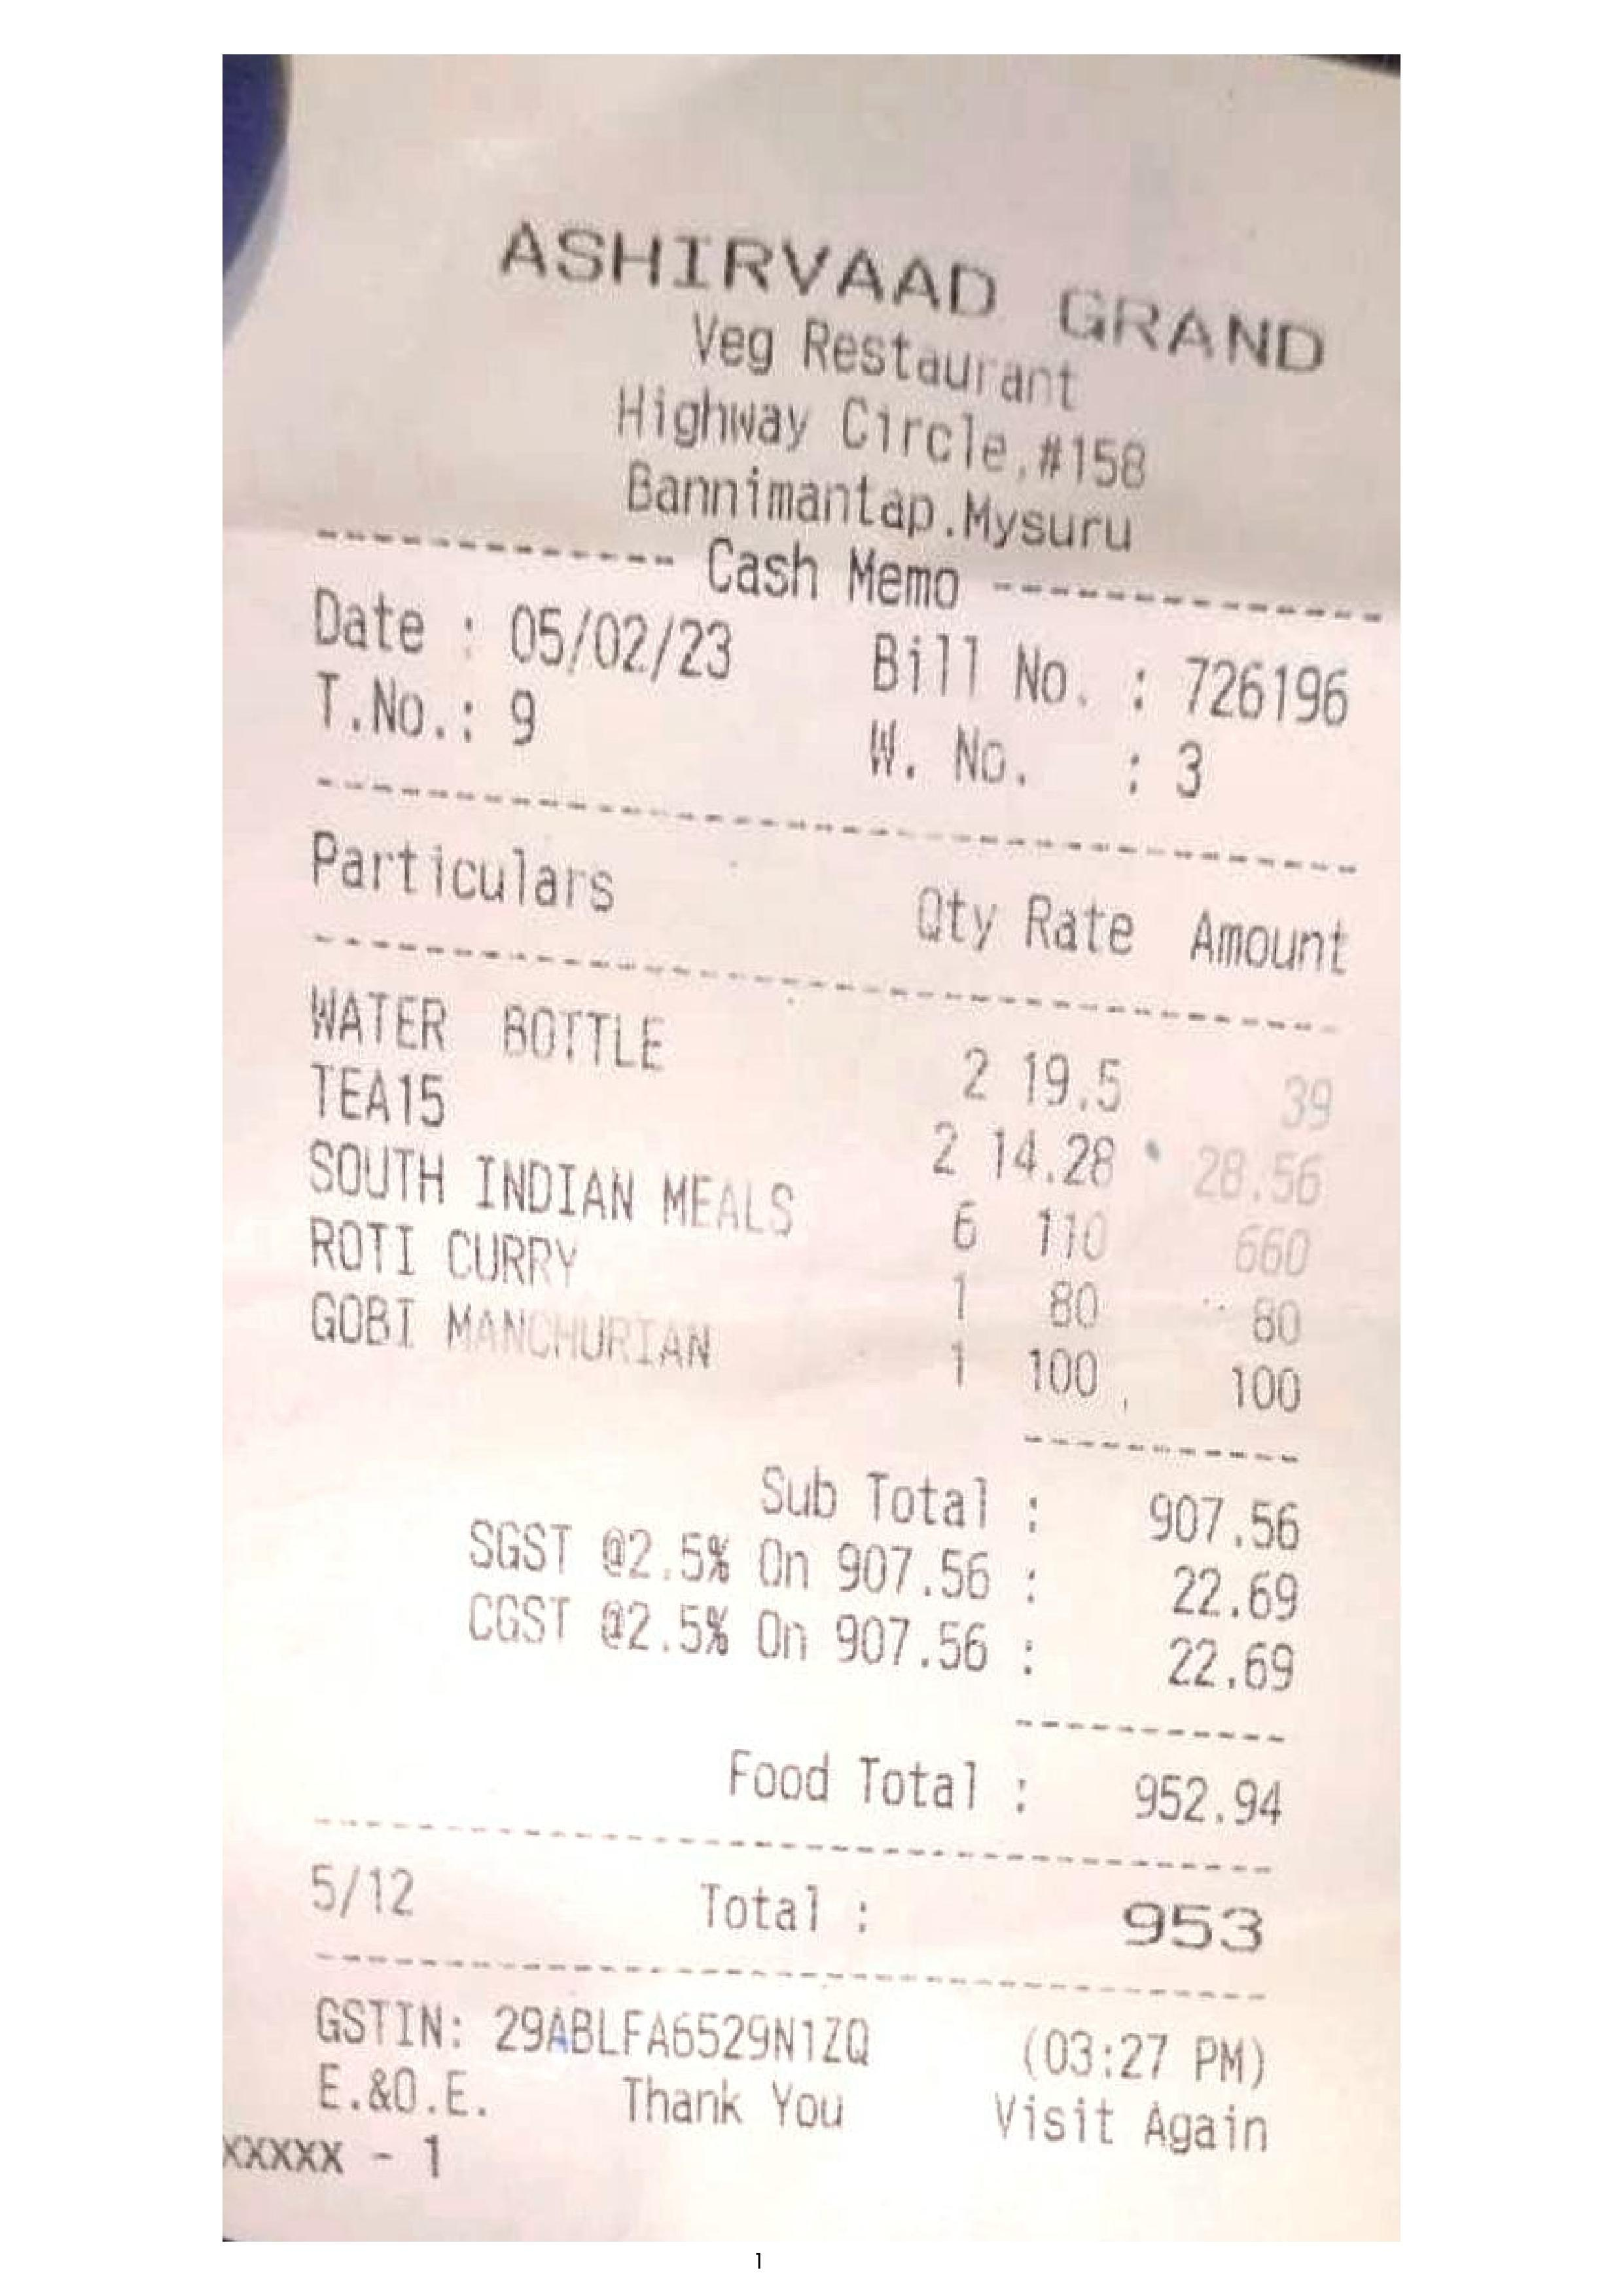InvoiceDate: (488, 583, 739, 694)
InvoiceNumber: (1156, 639, 1372, 740)
TotalAmount: (1129, 1895, 1277, 1967)
